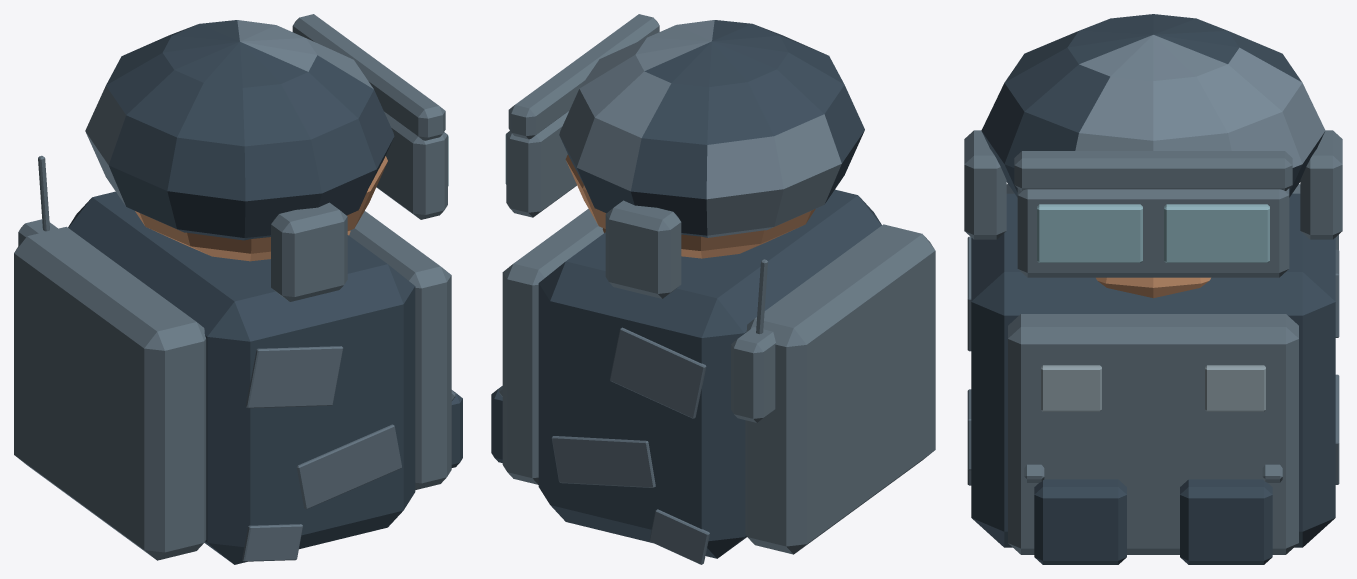
Rendered from urban-assault.carbon-camo.glb.
3 renders of one model, left to right at view 1: azimuth 30°, elevation 25°; view 2: azimuth 150°, elevation 25°; view 3: azimuth 270°, elevation 25°, orthographic. The views are drawn at different scales.
Parts seen in each view (by area): view 1: urban-assault_carbon-camo__main__torso_finish_657682_0.03, urban-assault_carbon-camo__main__torso_finish_3c4d5b_0.03, urban-assault_carbon-camo__main__head_finish_3c4d5b_0.03|fin, urban-assault_carbon-camo__main__head_finish_657682_0.03, urban-assault_carbon-camo__main__torso_finish_60717e_0.03, urban-assault_carbon-camo__main__head_finish_c38f6a_0.03; view 2: urban-assault_carbon-camo__main__torso_finish_657682_0.03, urban-assault_carbon-camo__main__torso_finish_3c4d5b_0.03, urban-assault_carbon-camo__main__head_finish_3c4d5b_0.03|fin, urban-assault_carbon-camo__main__head_finish_657682_0.03, urban-assault_carbon-camo__main__torso_finish_60717e_0.03, urban-assault_carbon-camo__main__head_finish_c38f6a_0.03; view 3: urban-assault_carbon-camo__main__torso_finish_657682_0.03, urban-assault_carbon-camo__main__torso_finish_3c4d5b_0.03, urban-assault_carbon-camo__main__head_finish_3c4d5b_0.03|fin, urban-assault_carbon-camo__main__head_finish_657682_0.03, urban-assault_carbon-camo__main__head_finish_91b6c0_0.03, urban-assault_carbon-camo__main__torso_finish_93a4ad_0.03, urban-assault_carbon-camo__main__torso_finish_60717e_0.03, urban-assault_carbon-camo__main__head_finish_c38f6a_0.03.
Part boxes in pixels (box(x1,y1,x2,y2)): urban-assault_carbon-camo__main__torso_finish_657682_0.03: box(14, 155, 455, 560); urban-assault_carbon-camo__main__torso_finish_3c4d5b_0.03: box(68, 191, 462, 564); urban-assault_carbon-camo__main__head_finish_3c4d5b_0.03|fin: box(85, 20, 394, 240); urban-assault_carbon-camo__main__head_finish_657682_0.03: box(271, 14, 447, 301); urban-assault_carbon-camo__main__torso_finish_60717e_0.03: box(242, 346, 401, 561); urban-assault_carbon-camo__main__head_finish_c38f6a_0.03: box(135, 156, 387, 261); urban-assault_carbon-camo__main__torso_finish_657682_0.03: box(499, 209, 935, 554); urban-assault_carbon-camo__main__torso_finish_3c4d5b_0.03: box(491, 189, 881, 558); urban-assault_carbon-camo__main__head_finish_3c4d5b_0.03|fin: box(559, 20, 864, 237); urban-assault_carbon-camo__main__head_finish_657682_0.03: box(506, 14, 681, 298); urban-assault_carbon-camo__main__torso_finish_60717e_0.03: box(551, 327, 709, 564); urban-assault_carbon-camo__main__head_finish_c38f6a_0.03: box(565, 154, 815, 258); urban-assault_carbon-camo__main__torso_finish_657682_0.03: box(1006, 184, 1338, 554); urban-assault_carbon-camo__main__torso_finish_3c4d5b_0.03: box(971, 193, 1335, 564); urban-assault_carbon-camo__main__head_finish_3c4d5b_0.03|fin: box(981, 14, 1325, 197); urban-assault_carbon-camo__main__head_finish_657682_0.03: box(964, 130, 1342, 277); urban-assault_carbon-camo__main__head_finish_91b6c0_0.03: box(1037, 204, 1269, 262); urban-assault_carbon-camo__main__torso_finish_93a4ad_0.03: box(1041, 365, 1265, 411); urban-assault_carbon-camo__main__torso_finish_60717e_0.03: box(967, 236, 1339, 485); urban-assault_carbon-camo__main__head_finish_c38f6a_0.03: box(1096, 277, 1210, 298).
Size of the model in its own units: 30.25 by 39.5 by 28.6.
